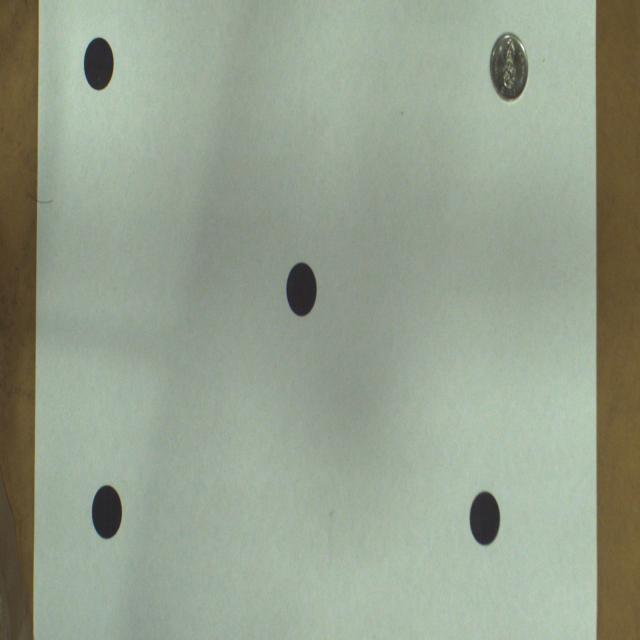space: (286, 262, 316, 316), (92, 484, 122, 538), (84, 38, 114, 91), (470, 491, 500, 544)
tail1bath: (490, 33, 528, 100)
